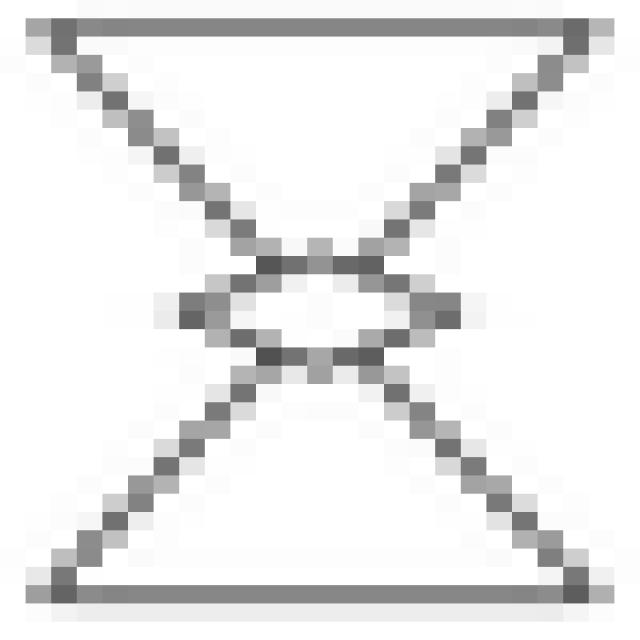Plug Valve: (43, 22, 596, 603)
